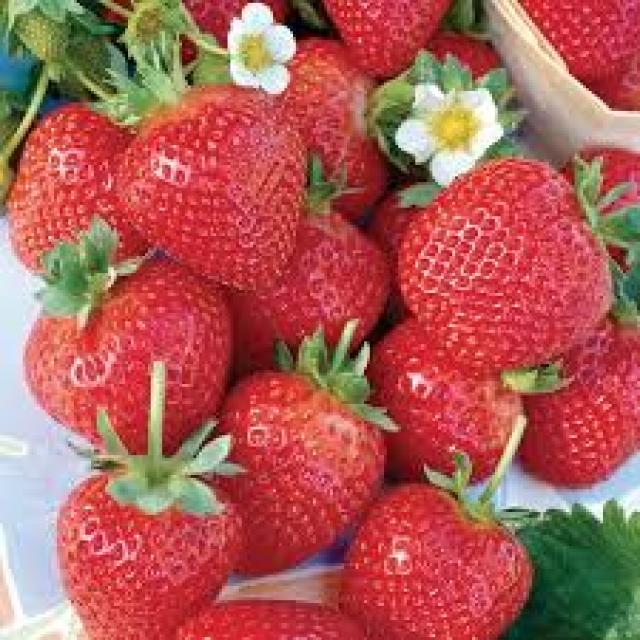Berries strawberries/blueberries: (396, 160, 614, 368), (113, 82, 308, 291), (25, 282, 233, 419), (54, 466, 240, 606), (374, 484, 532, 640), (241, 371, 386, 506), (5, 102, 123, 229)
